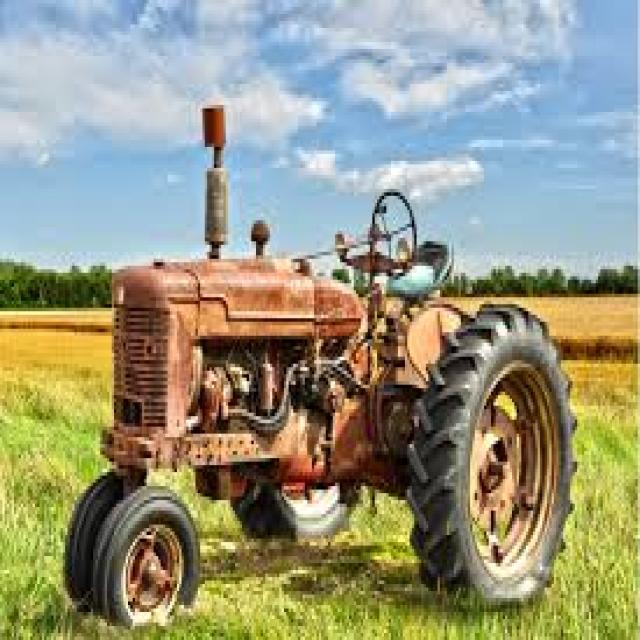tractor: (65, 108, 573, 626)
